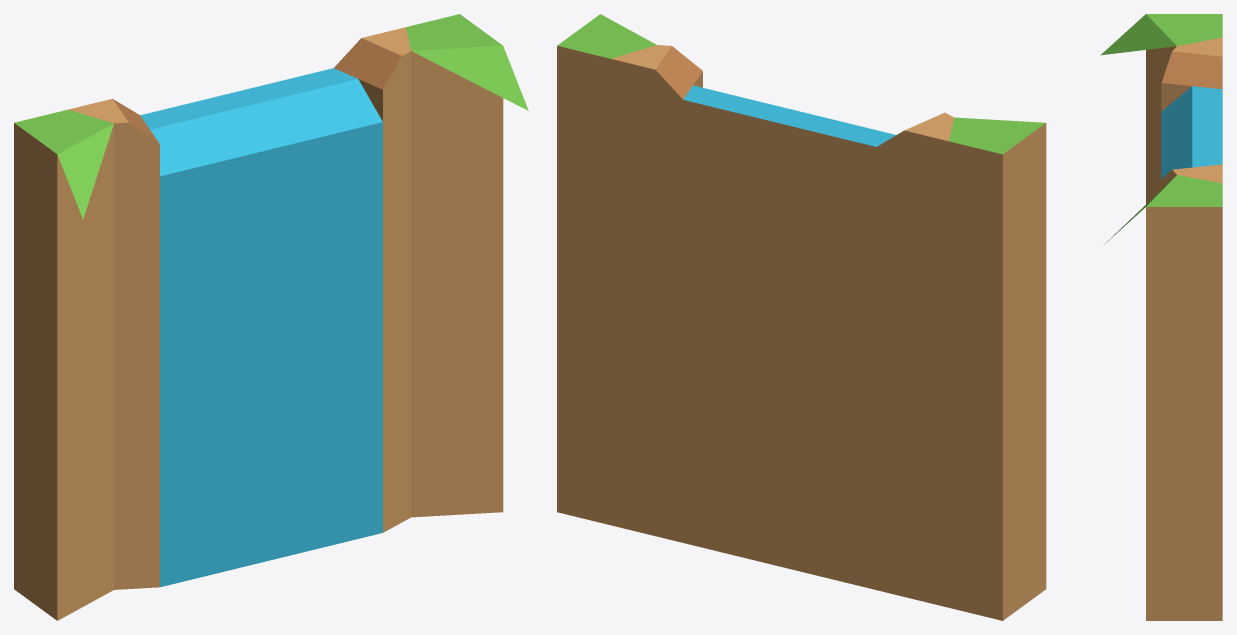
File: cliff-waterfall-top.glb
3 views of the same model, side by side, from view 1: azimuth 30°, elevation 25°; view 2: azimuth 150°, elevation 25°; view 3: azimuth 270°, elevation 25° (orthographic). The views are drawn at different scales.
Parts seen in each view (by area): view 1: cliff_waterfallTop_rock; view 2: cliff_waterfallTop_rock; view 3: cliff_waterfallTop_rock.
Part boxes in pixels (x1,y1,x2,y2): cliff_waterfallTop_rock: (14,14,528,620); cliff_waterfallTop_rock: (557,14,1046,620); cliff_waterfallTop_rock: (1100,14,1222,620).
Size of the model in its own units: 4 by 4 by 1.07.
